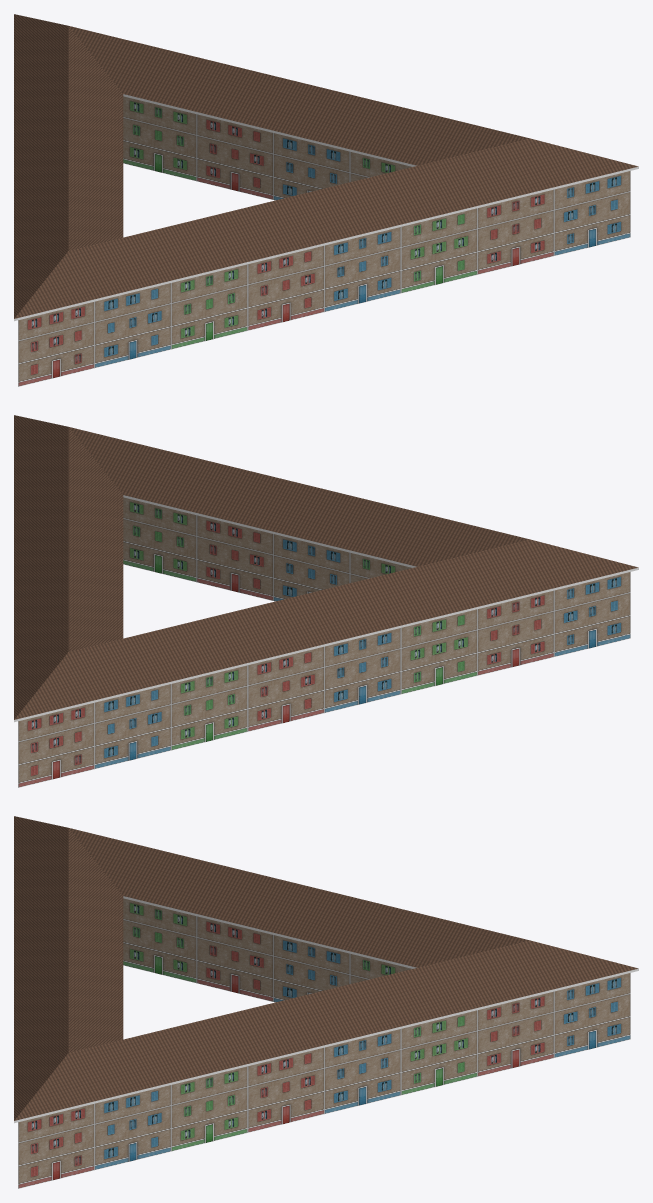
The model's file is TriangleBlock.FBX.
3 views of the same model, one above another, from view 1: azimuth 30°, elevation 25°; view 2: azimuth 150°, elevation 25°; view 3: azimuth 270°, elevation 25° (orthographic).
Visible parts, largest first — view 1: TriangleBlock; view 2: TriangleBlock; view 3: TriangleBlock.
Boxes of the visible parts, <box> form: TriangleBlock: <box>14,14,638,386</box>; TriangleBlock: <box>14,415,638,787</box>; TriangleBlock: <box>14,816,638,1188</box>.
Size of the model in its own units: 85.83 by 13 by 74.33.
